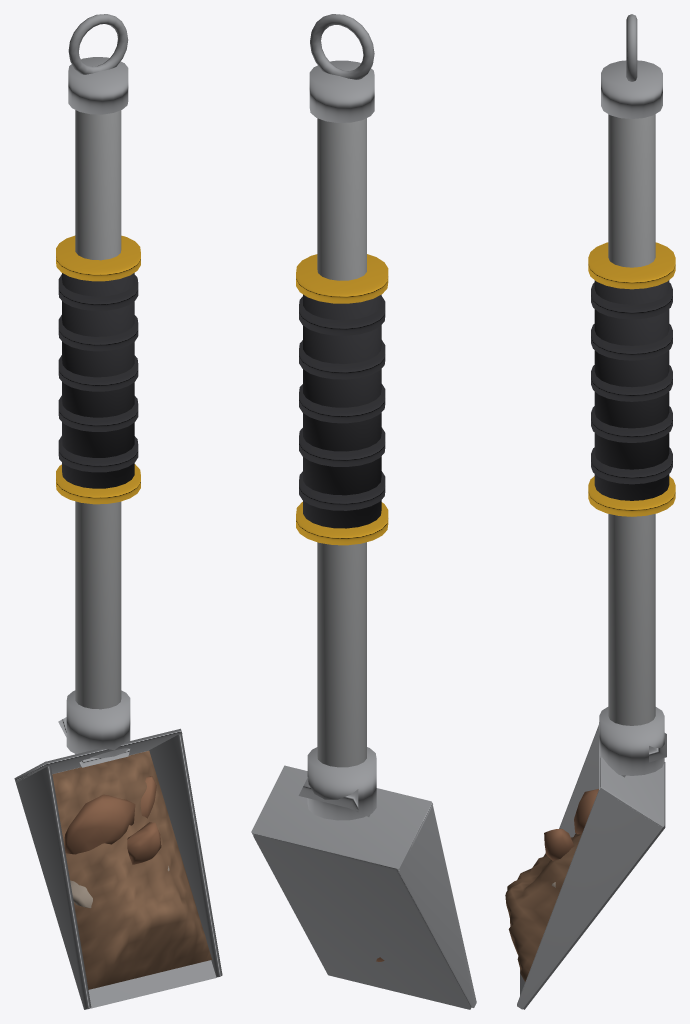
The model's file is sample_scoop.glb.
The picture shows the model from 3 angles, left to right: view 1: azimuth 30°, elevation 25°; view 2: azimuth 150°, elevation 25°; view 3: azimuth 270°, elevation 25°; orthographic projection. The views are drawn at different scales.
Parts seen in each view (by area): view 1: SampleScoop, ScoopSoil, ScoopRocks; view 2: SampleScoop; view 3: SampleScoop, ScoopSoil, ScoopRocks.
Boxes of the visible parts, x1,y1,x2,y2 form: SampleScoop: (14, 14, 222, 1009); ScoopSoil: (52, 751, 211, 989); ScoopRocks: (64, 776, 169, 908); SampleScoop: (251, 14, 476, 1009); SampleScoop: (517, 14, 675, 1009); ScoopSoil: (505, 833, 582, 981); ScoopRocks: (544, 789, 598, 887).
Size of the model in its own units: 0.088 by 0.5825 by 0.0936.
